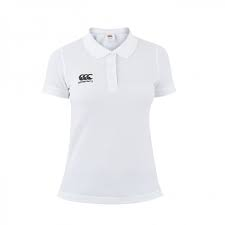S_polo shirt: (46, 25, 187, 202)
